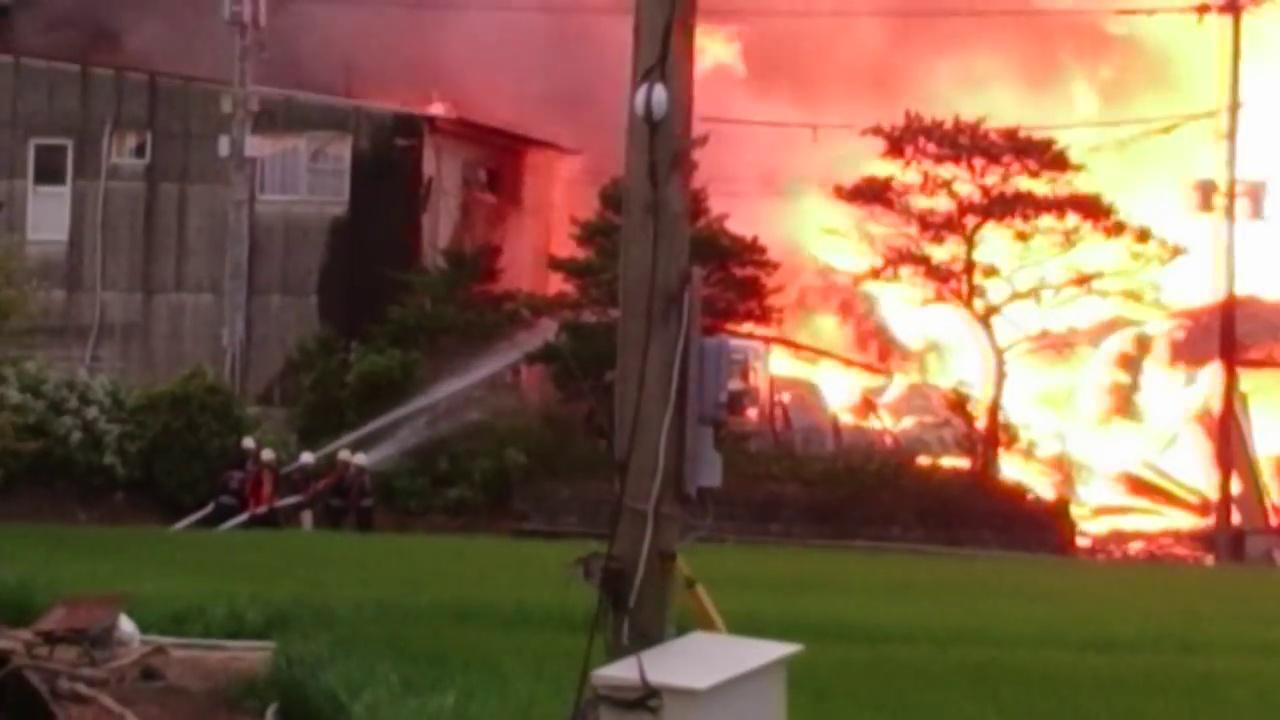fire: (780, 10, 1276, 539)
